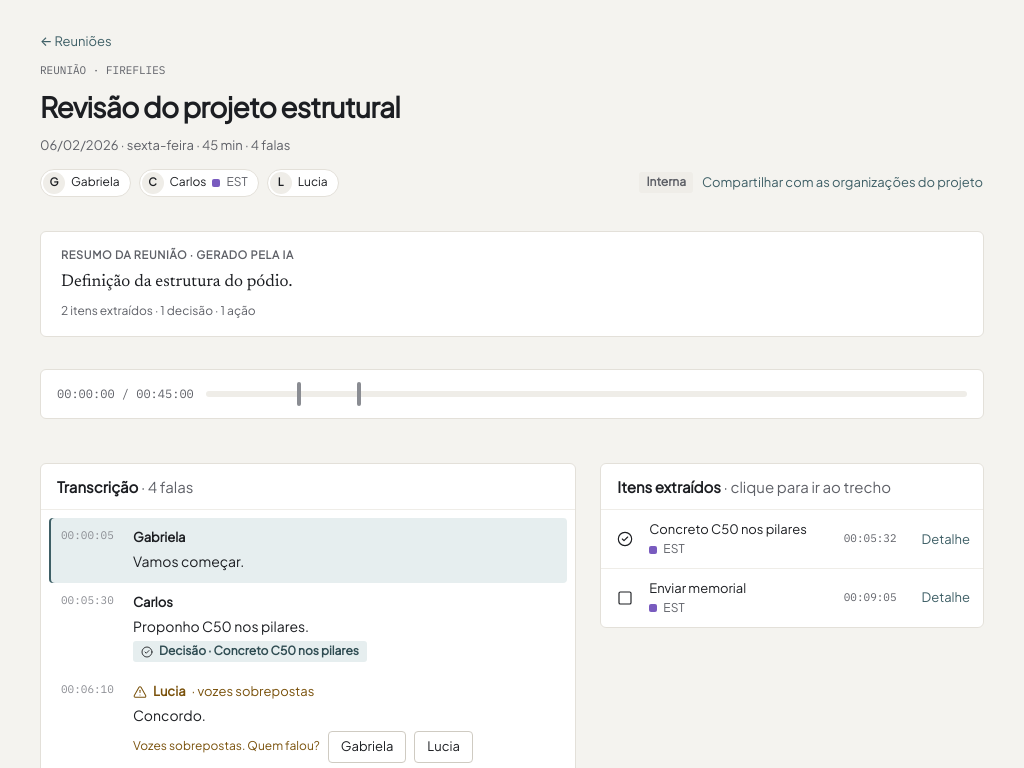
Phase 3c › opens the item panel from an anchored chip
The width and height of the screenshot is (1024, 768).
Click the button "Decisão · Concreto C50 nos pilares" at (250, 652), box [133,641,367,662]
(page scrolled)
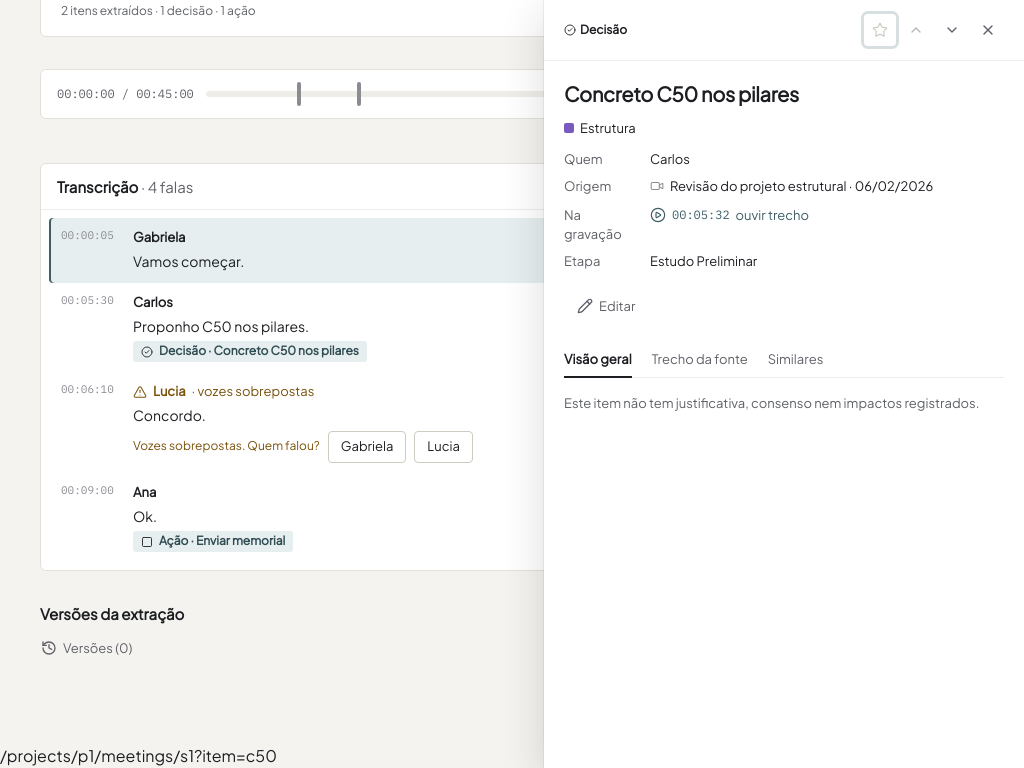
Expected: the text with test id "where" shows "item=c50", [0,745,277,766]
